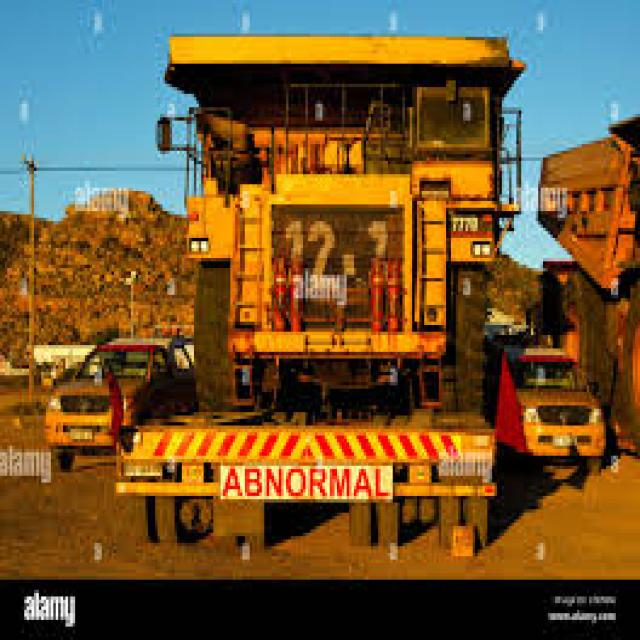dump_truck: (152, 10, 494, 416)
light_vehicle: (29, 318, 204, 479), (492, 318, 638, 490)
